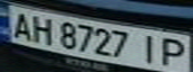2: (90, 25, 115, 57)
7: (109, 28, 136, 61), (75, 22, 96, 54)
8: (54, 19, 78, 51)
A: (6, 9, 36, 40)
H: (27, 14, 57, 45)
I: (136, 32, 163, 65)
P: (157, 35, 193, 70)
